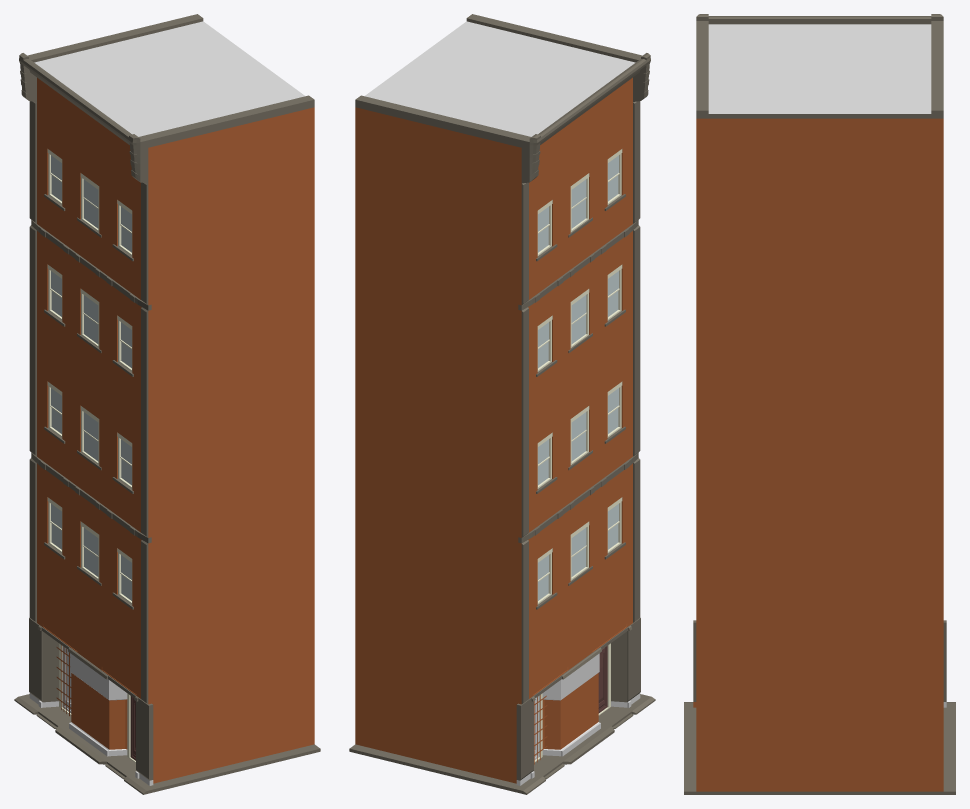
Rendered from Building_4.fbx.
3 renders of one model, left to right at view 1: azimuth 30°, elevation 25°; view 2: azimuth 150°, elevation 25°; view 3: azimuth 270°, elevation 25°, orthographic. The views are drawn at different scales.
Parts seen in each view (by area): view 1: Cube.086; view 2: Cube.086; view 3: Cube.086.
Boxes of the visible parts, x1,y1,x2,y2 form: Cube.086: (14,14,320,794); Cube.086: (349,14,655,794); Cube.086: (684,14,955,794).
Size of the model in its own units: 696 by 2406 by 861.
